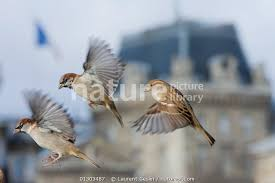hsparrow: (9, 87, 101, 180), (55, 34, 128, 136), (135, 78, 228, 149)
